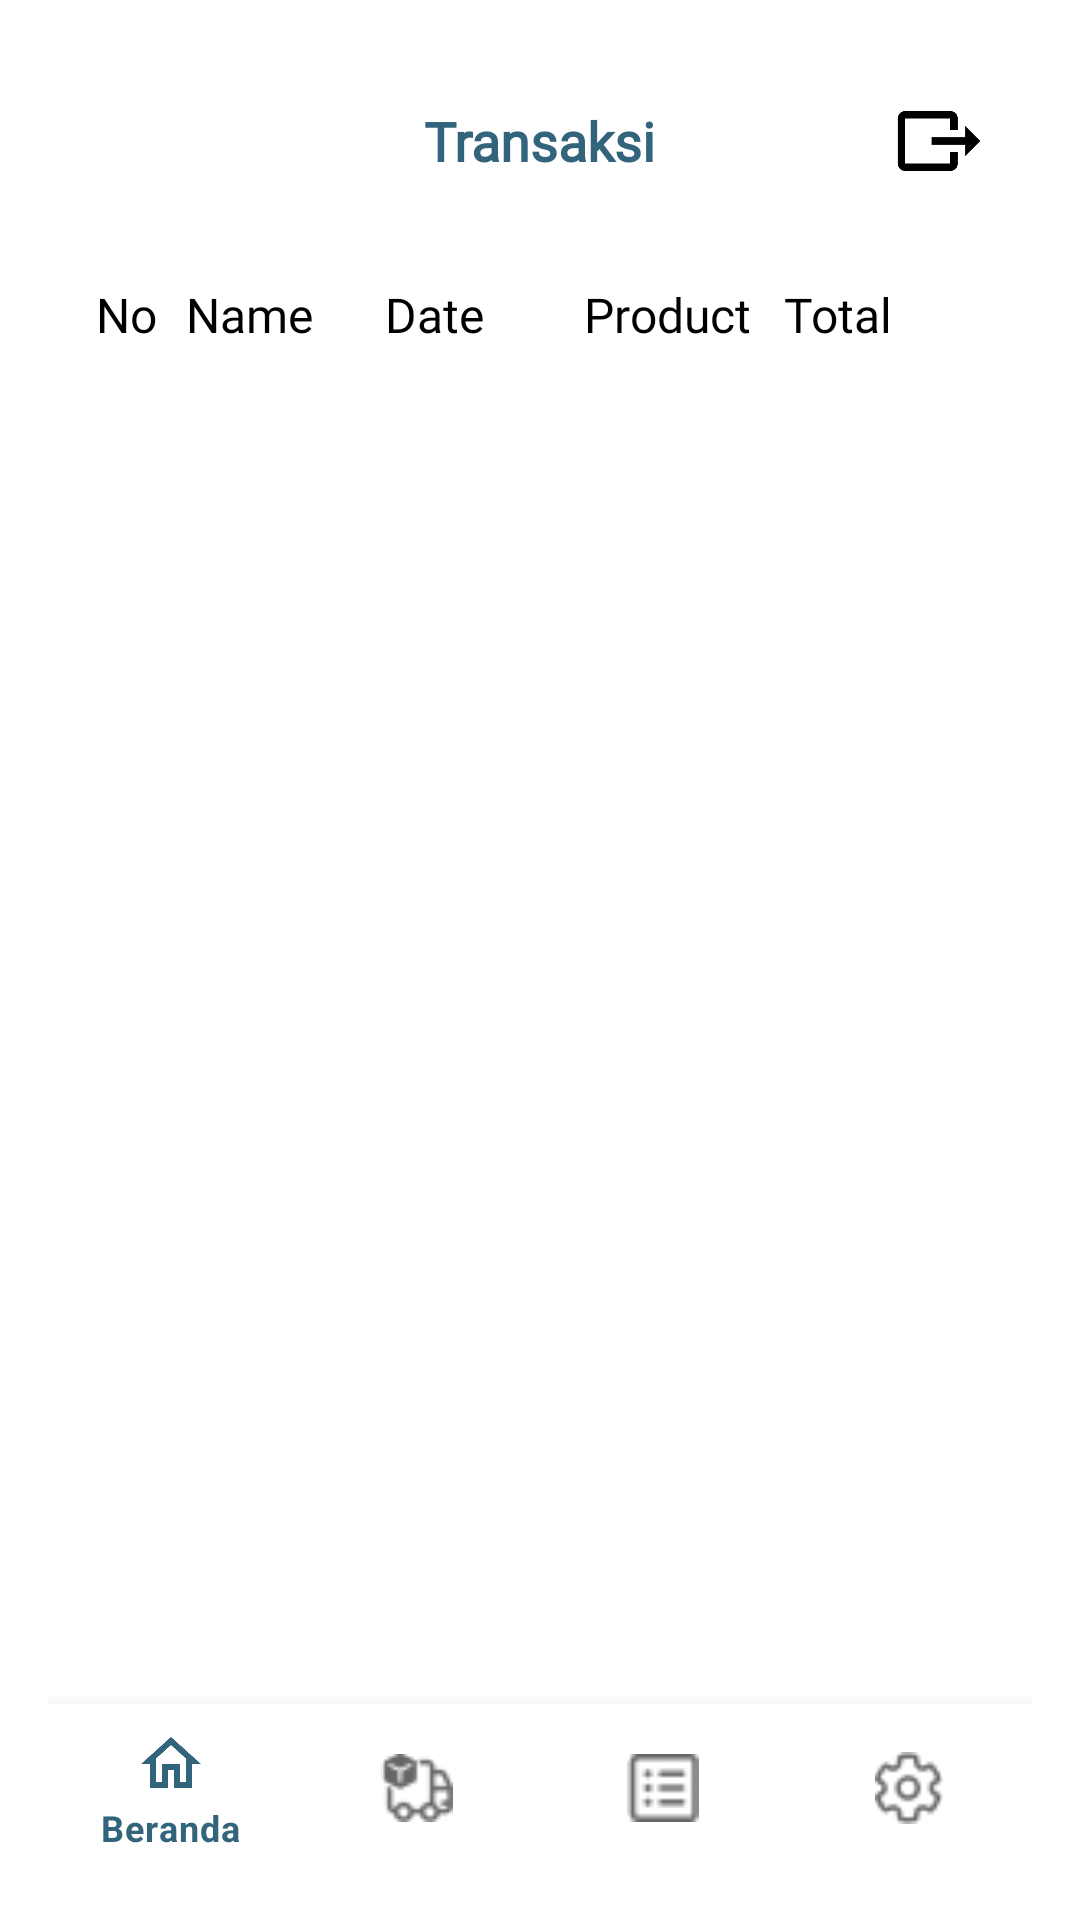

Point at icon controls on the screen. Image size 1080*1920, points as (x=x, y=y).
export: (x=938, y=141)
